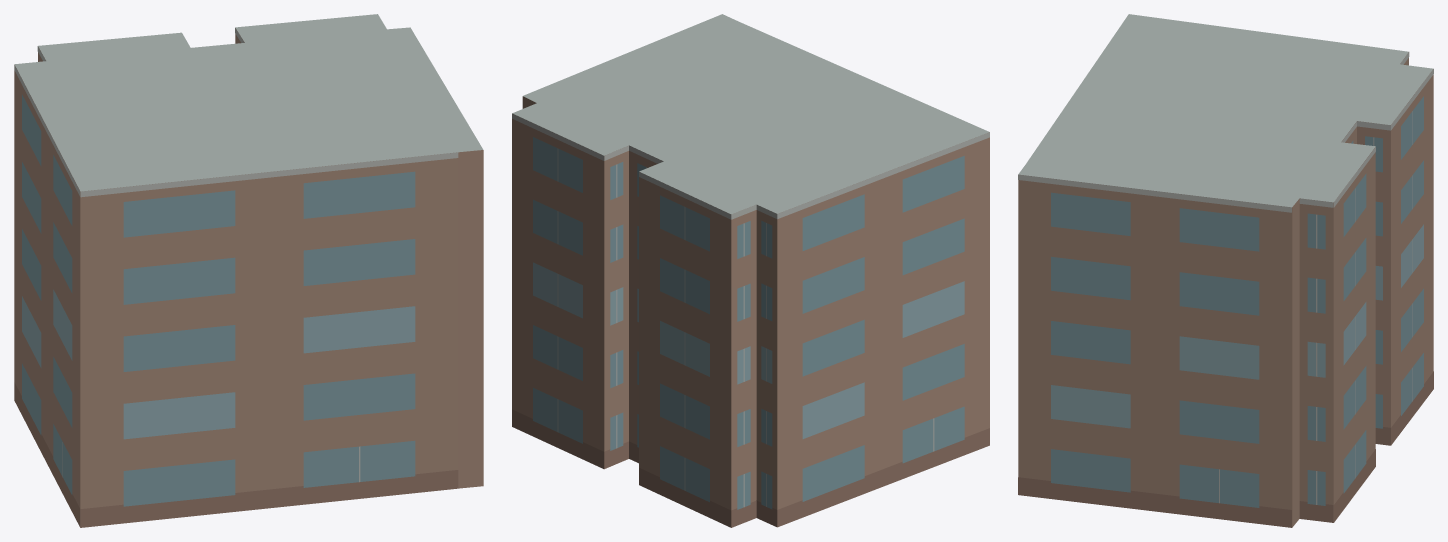
The model's file is survey-upis-32656161.glb.
3 views of the same model, side by side, from view 1: azimuth 30°, elevation 25°; view 2: azimuth 150°, elevation 25°; view 3: azimuth 270°, elevation 25° (orthographic). The views are drawn at different scales.
Visible parts, largest first — view 1: survey-upis-32656161.tmp; view 2: survey-upis-32656161.tmp; view 3: survey-upis-32656161.tmp.
Part boxes in pixels (<box>): survey-upis-32656161.tmp: <box>14,14,483,527</box>; survey-upis-32656161.tmp: <box>512,14,989,527</box>; survey-upis-32656161.tmp: <box>1018,14,1433,527</box>.
Bounding box in the file's own units: 18.57 × 14.35 × 16.87.
